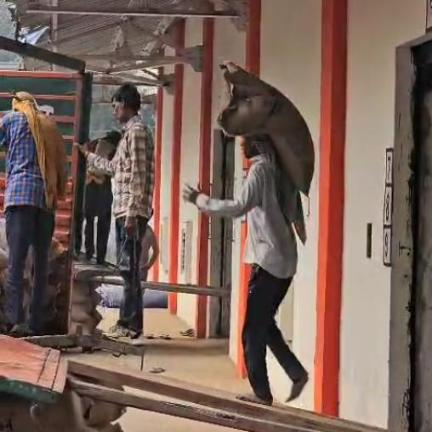Zone-Counting: (184, 61, 313, 404)
